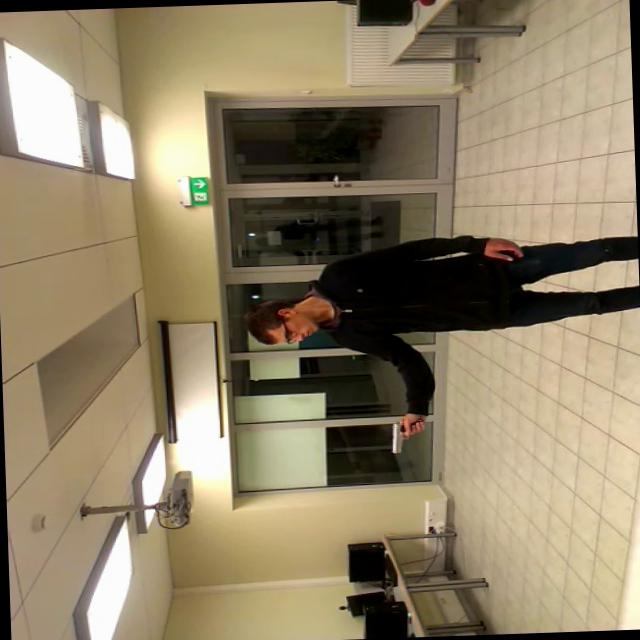handgun: (383, 412, 431, 458)
